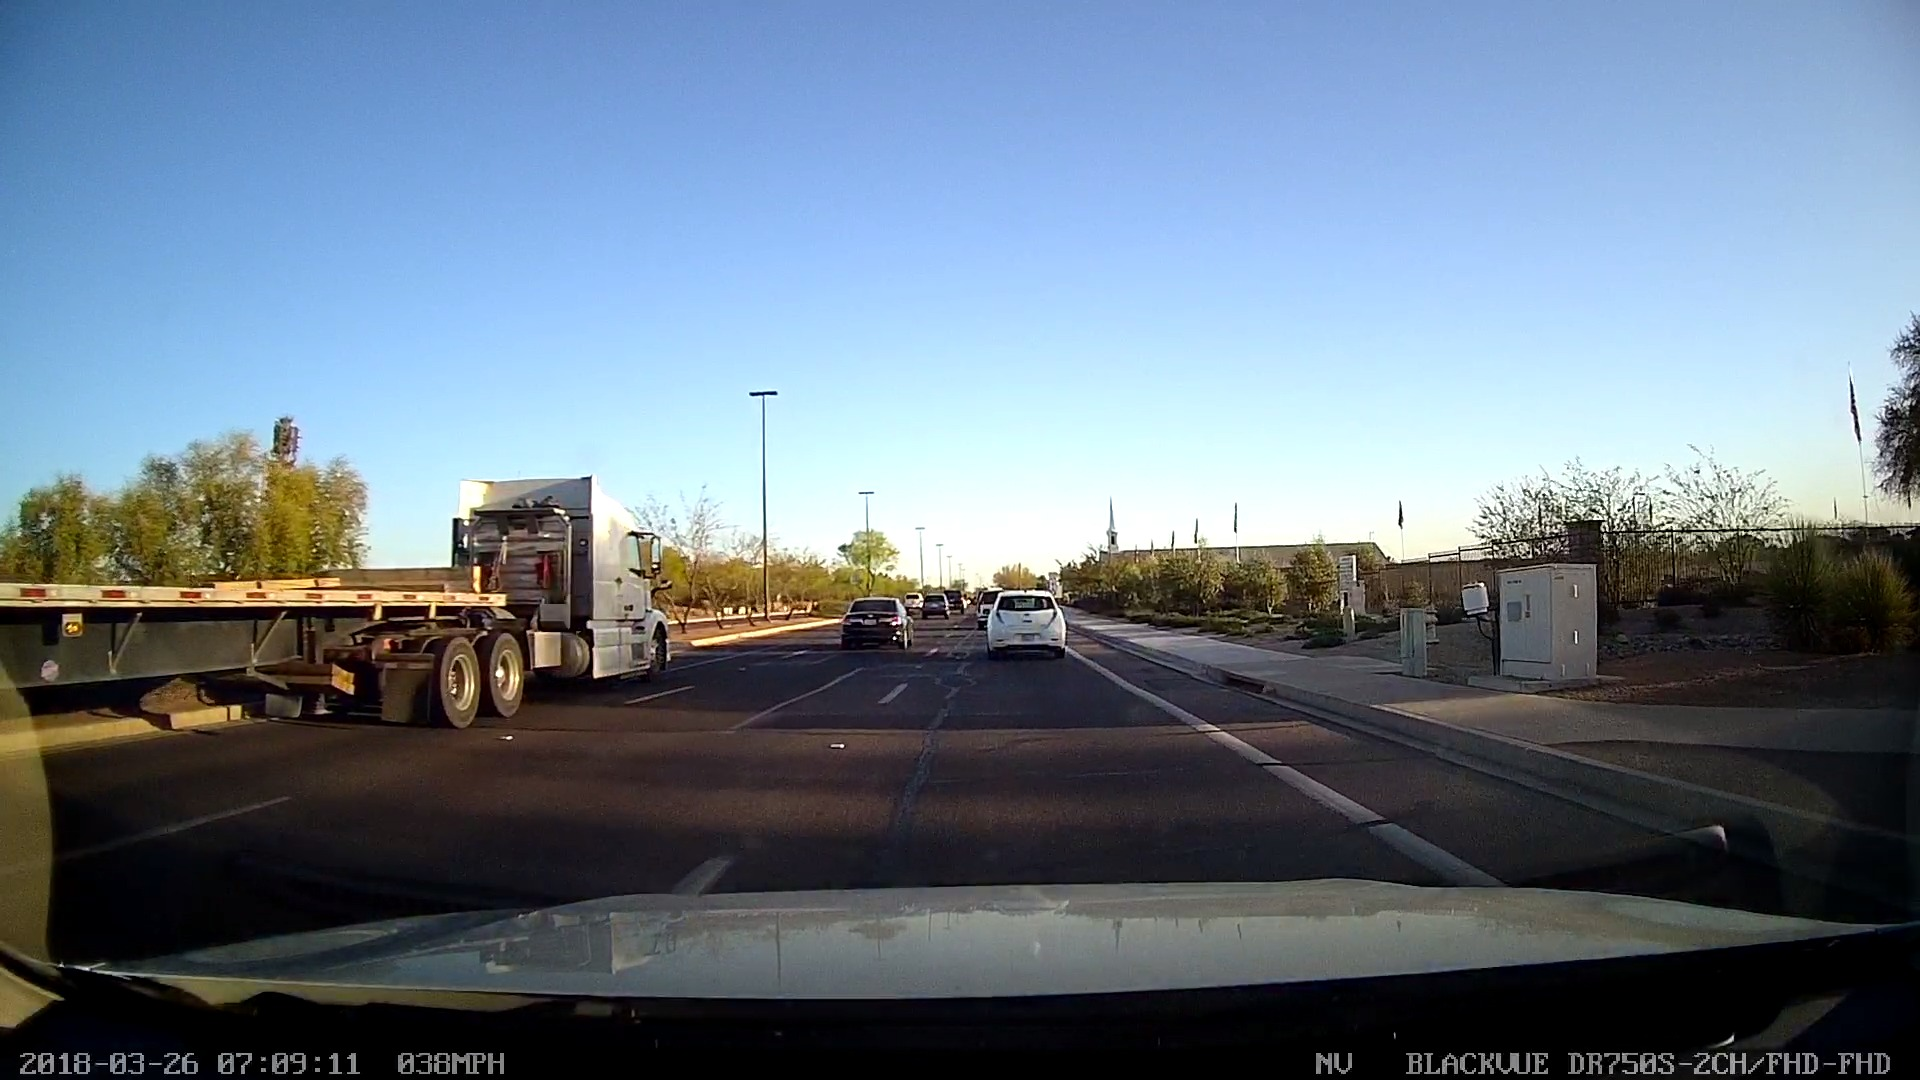vehicle: (0, 463, 711, 746), (971, 579, 1080, 669), (829, 582, 934, 665)
